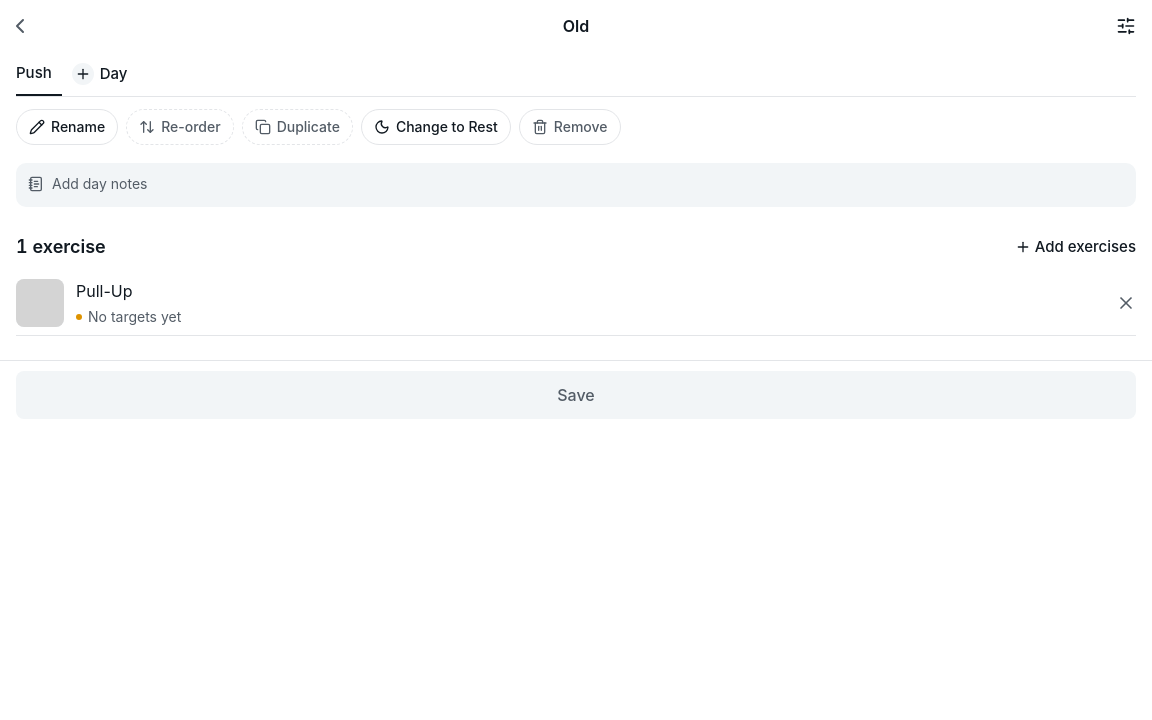
Test case: ProgramEditorPage - settings drawer › Restore un-archives
Click the button named "Program settings" at (1114, 26), box [1092, 4, 1136, 48]
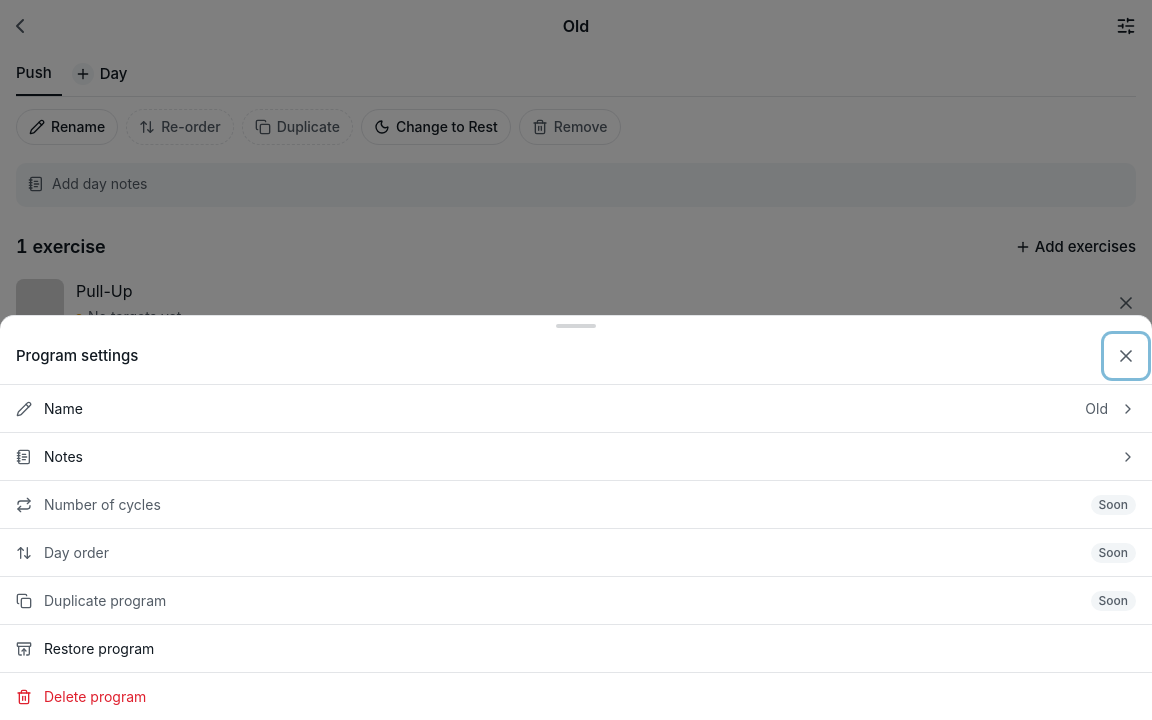
Click the button "Restore program" at (99, 648), box [0, 624, 1151, 672]
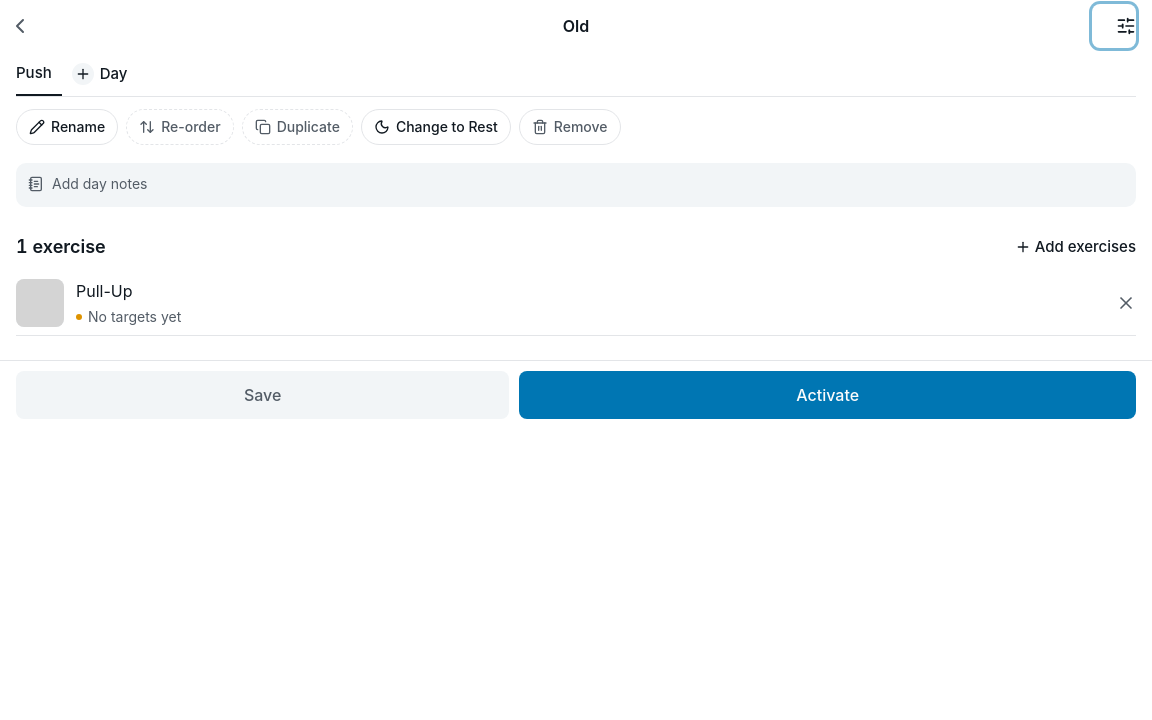
Check: the button "Activate" is shown, box [519, 371, 1136, 419]
